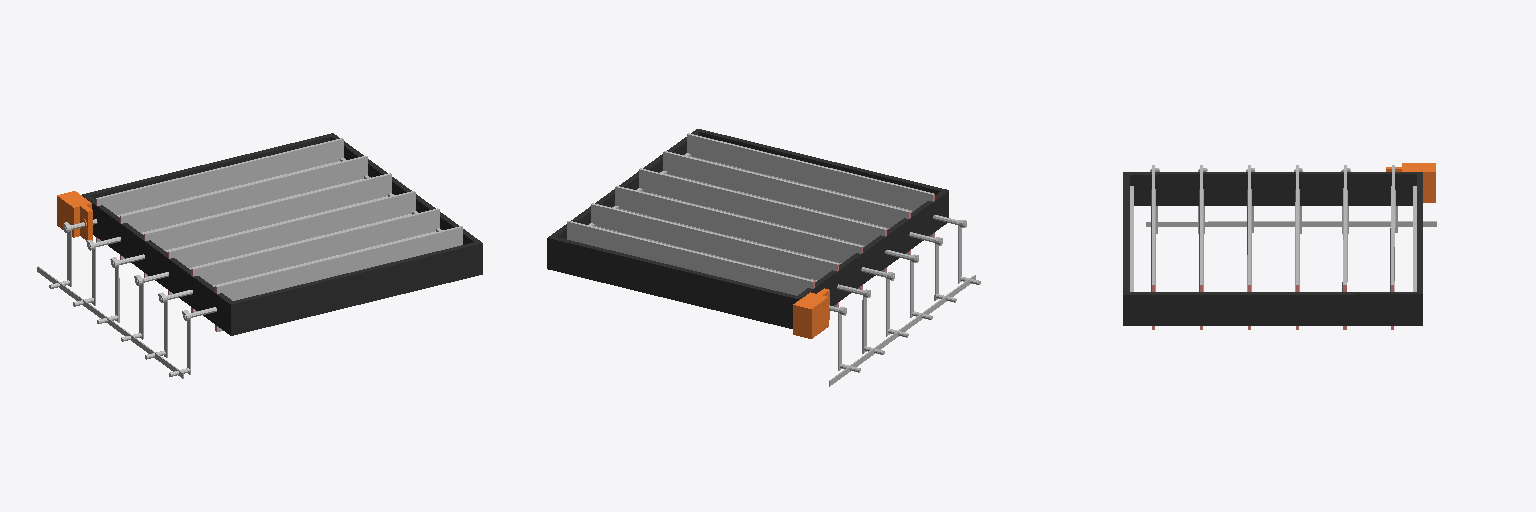
File: damper.obj
3 renders of one model, left to right at view 1: azimuth 30°, elevation 25°; view 2: azimuth 150°, elevation 25°; view 3: azimuth 270°, elevation 25°, orthographic.
Parts seen in each view (by area): view 1: CenterDamper_DamperGeom; view 2: CenterDamper_DamperGeom; view 3: CenterDamper_DamperGeom.
Part boxes in pixels (bbox=[...]): CenterDamper_DamperGeom: bbox=[37, 133, 482, 378]; CenterDamper_DamperGeom: bbox=[547, 129, 980, 386]; CenterDamper_DamperGeom: bbox=[1123, 163, 1436, 329].
Size of the model in its own units: 1.99 by 0.5248 by 1.81.